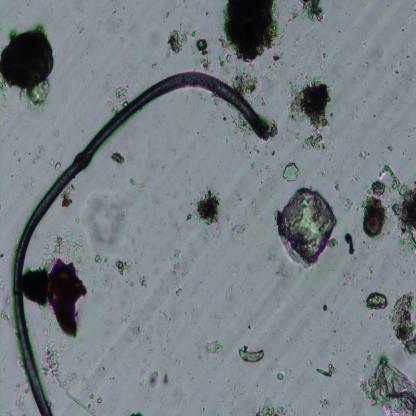Background material: (270, 182, 341, 271), (21, 259, 88, 339), (0, 25, 56, 107), (42, 342, 102, 414), (80, 183, 132, 259), (222, 1, 281, 64), (360, 356, 416, 416), (382, 158, 416, 251), (287, 70, 332, 130), (391, 290, 416, 357), (43, 231, 93, 264), (193, 184, 222, 228), (361, 197, 389, 238), (169, 241, 188, 300), (389, 44, 414, 85), (264, 244, 285, 284), (212, 35, 232, 76), (234, 67, 262, 95), (94, 252, 113, 288), (0, 280, 15, 323), (298, 1, 327, 23), (230, 113, 252, 141), (312, 359, 339, 381), (365, 289, 390, 312), (167, 28, 190, 53), (236, 346, 266, 364), (144, 369, 172, 388), (256, 400, 288, 416), (107, 84, 128, 108), (300, 135, 328, 151), (42, 152, 62, 173), (282, 161, 302, 182), (370, 178, 388, 198), (314, 46, 330, 68), (154, 308, 173, 326), (343, 233, 356, 258), (128, 320, 146, 338), (206, 341, 224, 358), (310, 392, 329, 408), (71, 19, 88, 36), (232, 220, 246, 240), (113, 260, 130, 276), (197, 38, 211, 56), (111, 151, 127, 166), (60, 194, 76, 209), (136, 271, 148, 289), (200, 56, 213, 72), (150, 57, 160, 74), (125, 174, 136, 187), (247, 160, 257, 174), (160, 10, 171, 22), (360, 149, 371, 161), (241, 141, 250, 154), (253, 143, 263, 154), (345, 197, 353, 210), (128, 410, 145, 416), (276, 372, 286, 381), (386, 144, 394, 152), (56, 128, 62, 138), (322, 300, 326, 312), (75, 218, 79, 223)
Microfibre: (14, 70, 272, 415)
